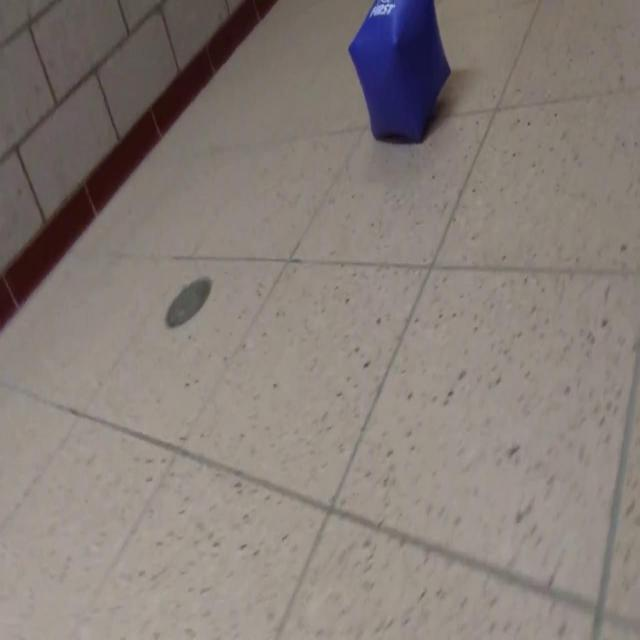frc_cube: (347, 0, 449, 146)
